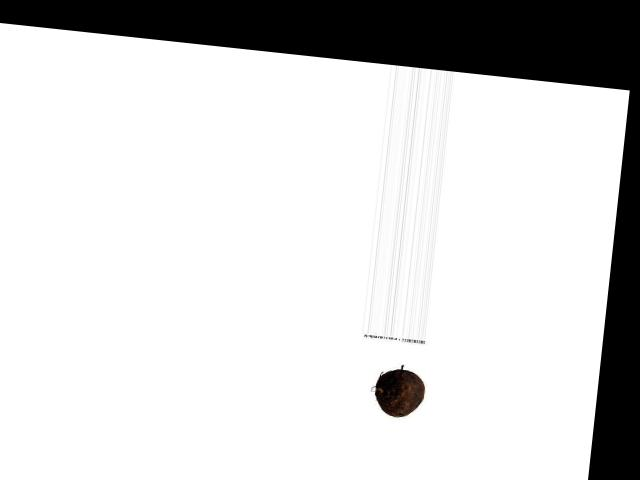beet: (374, 367, 427, 419)
